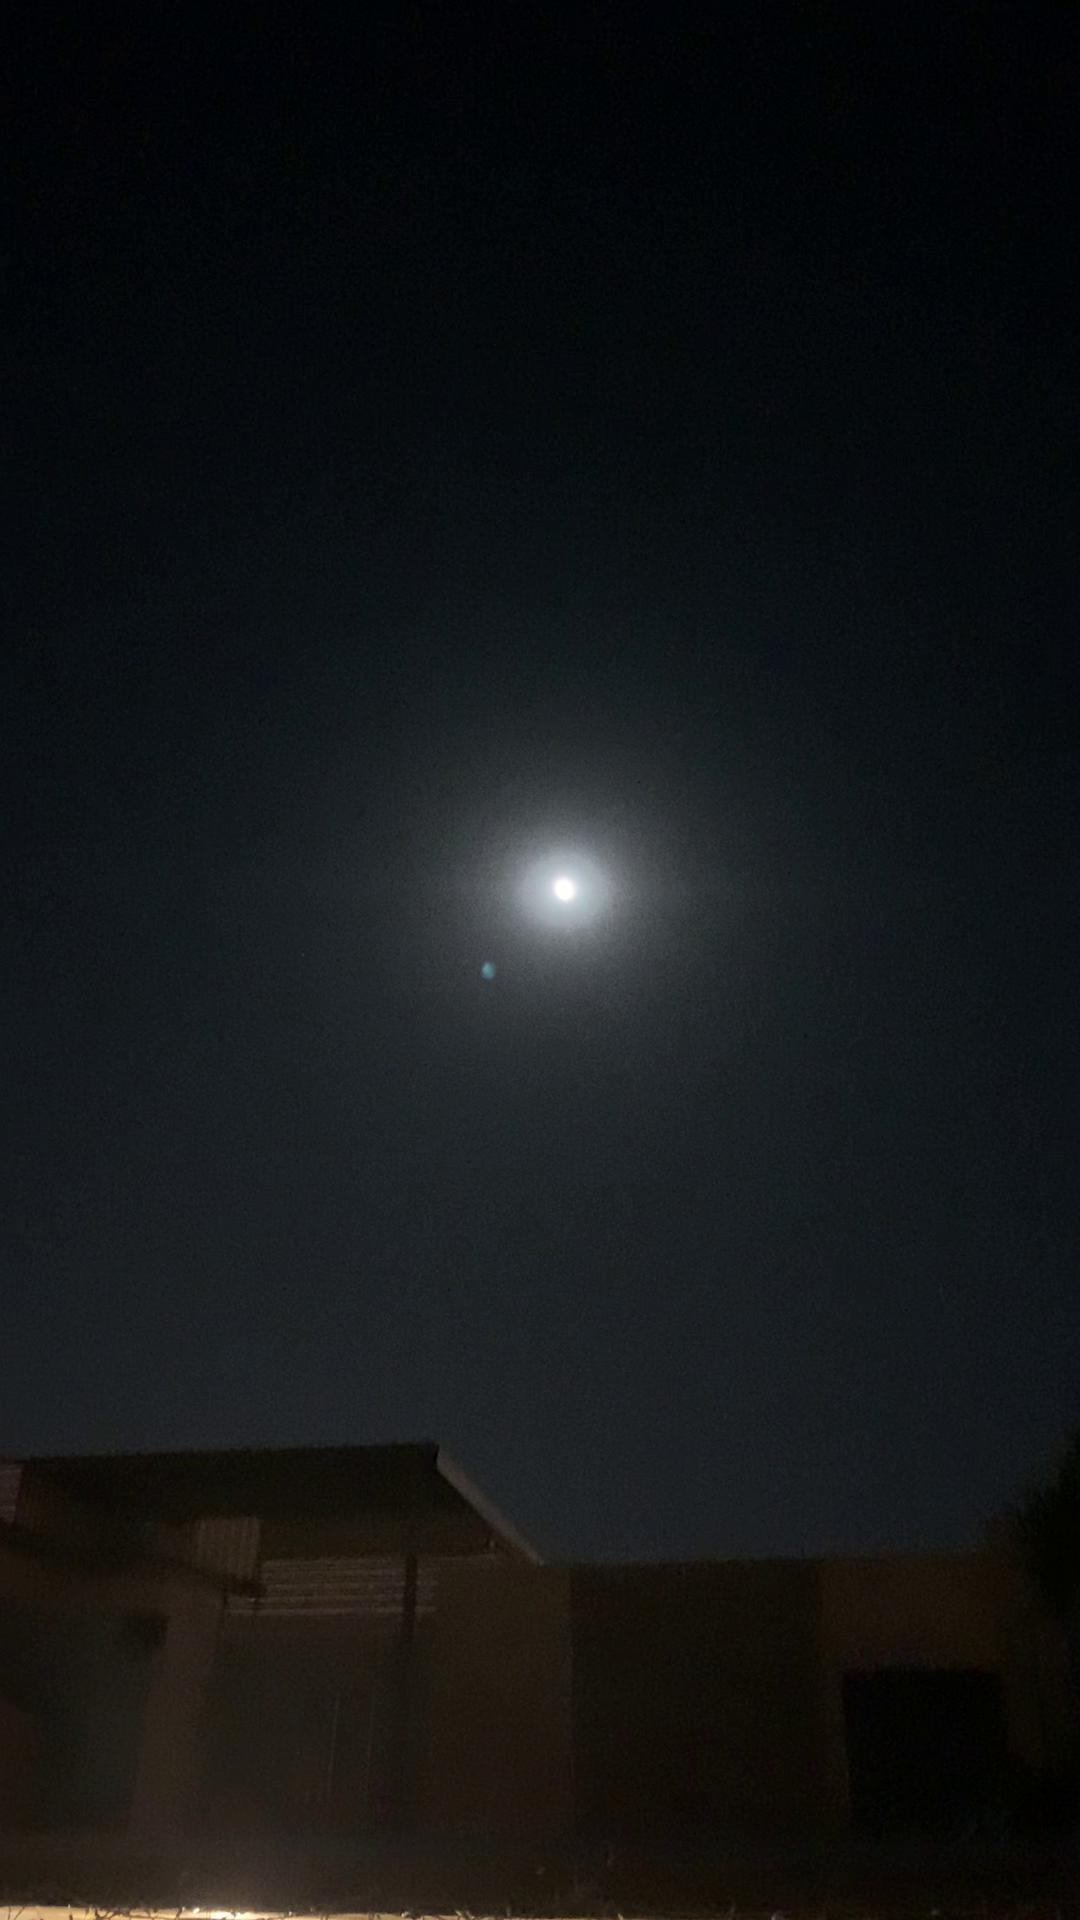moon: (514, 841, 616, 930)
